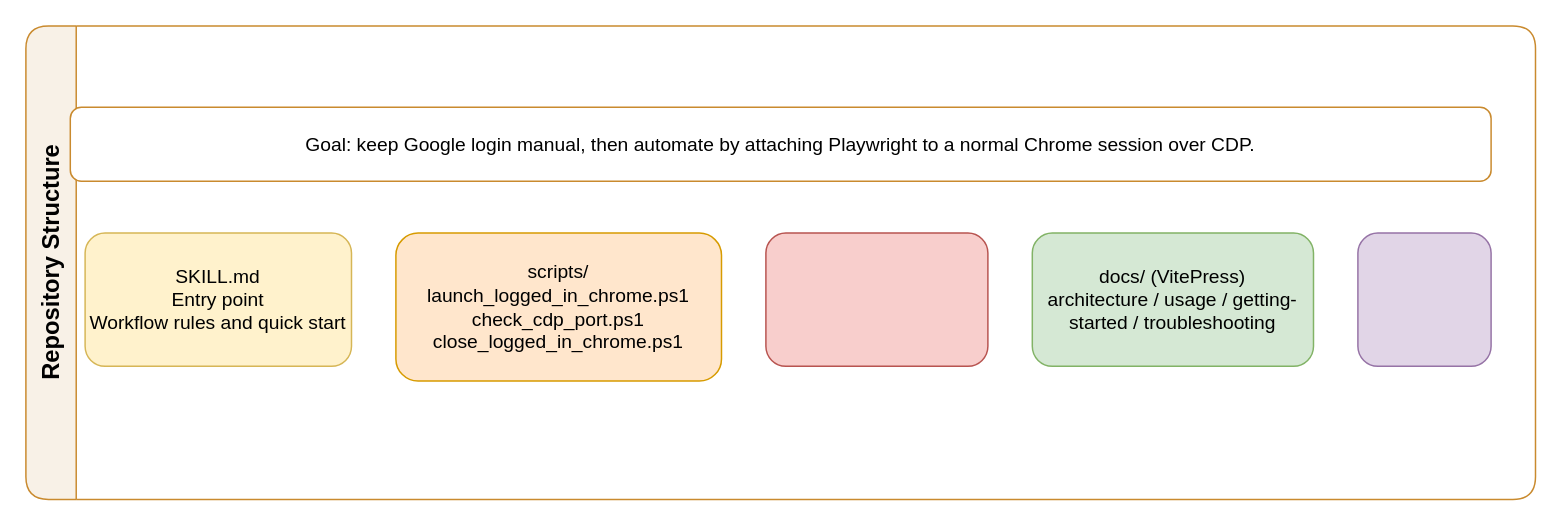
Image size: 1561x525. Some labels were removed from this diagram. Each missing label, with the box of its shape:
README.md / README.ja.md agents/openai.yaml: (1356, 232, 1491, 366)
references/ troubleshooting.md: (764, 232, 988, 366)
